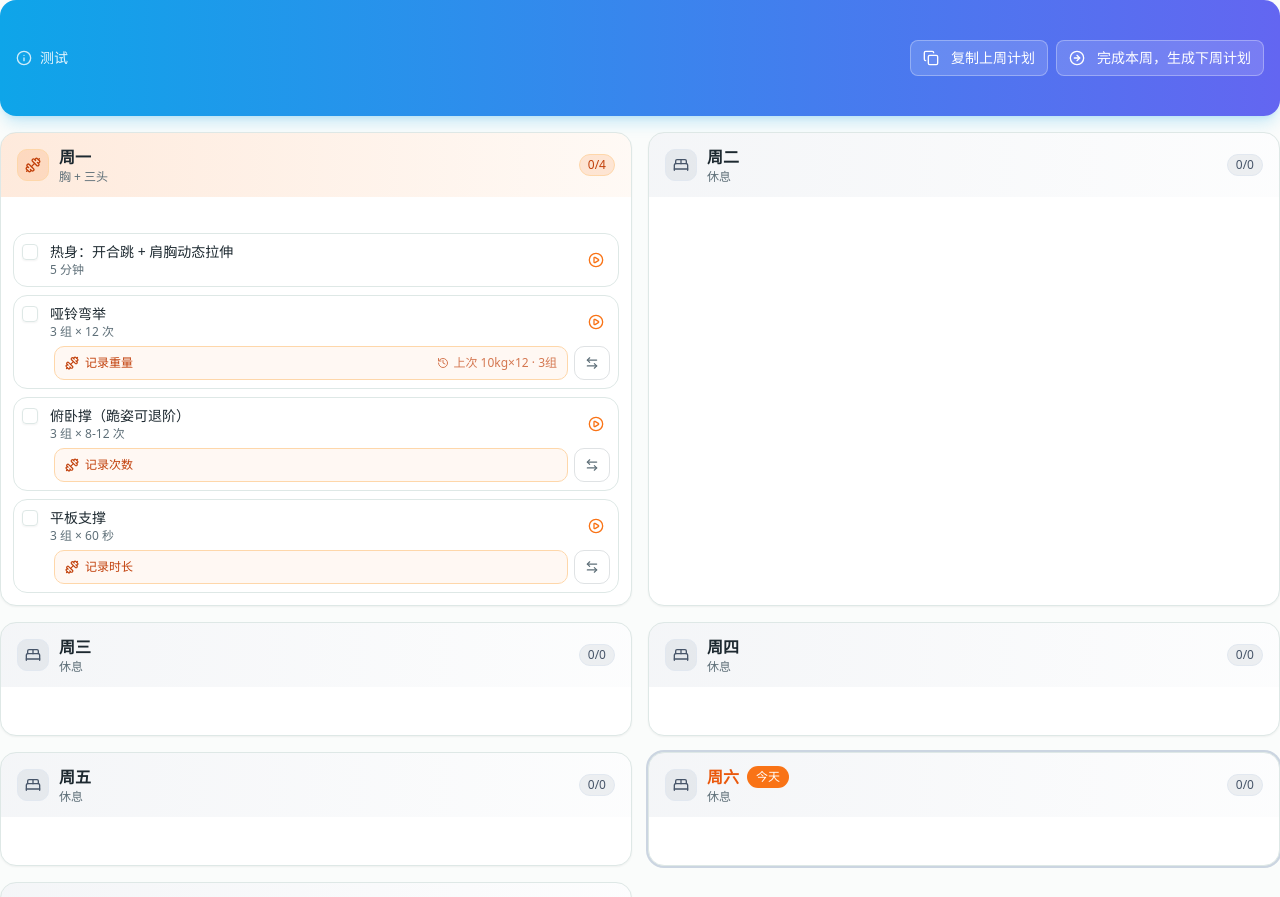
Test: 负重动作（哑铃弯举） › 有历史记录时入口显示"上次"，弹窗预填上次重量次数
Click the button "记录重量 上次 10kg×12 · 3组". click: (109, 362)
box: [54, 346, 568, 380]
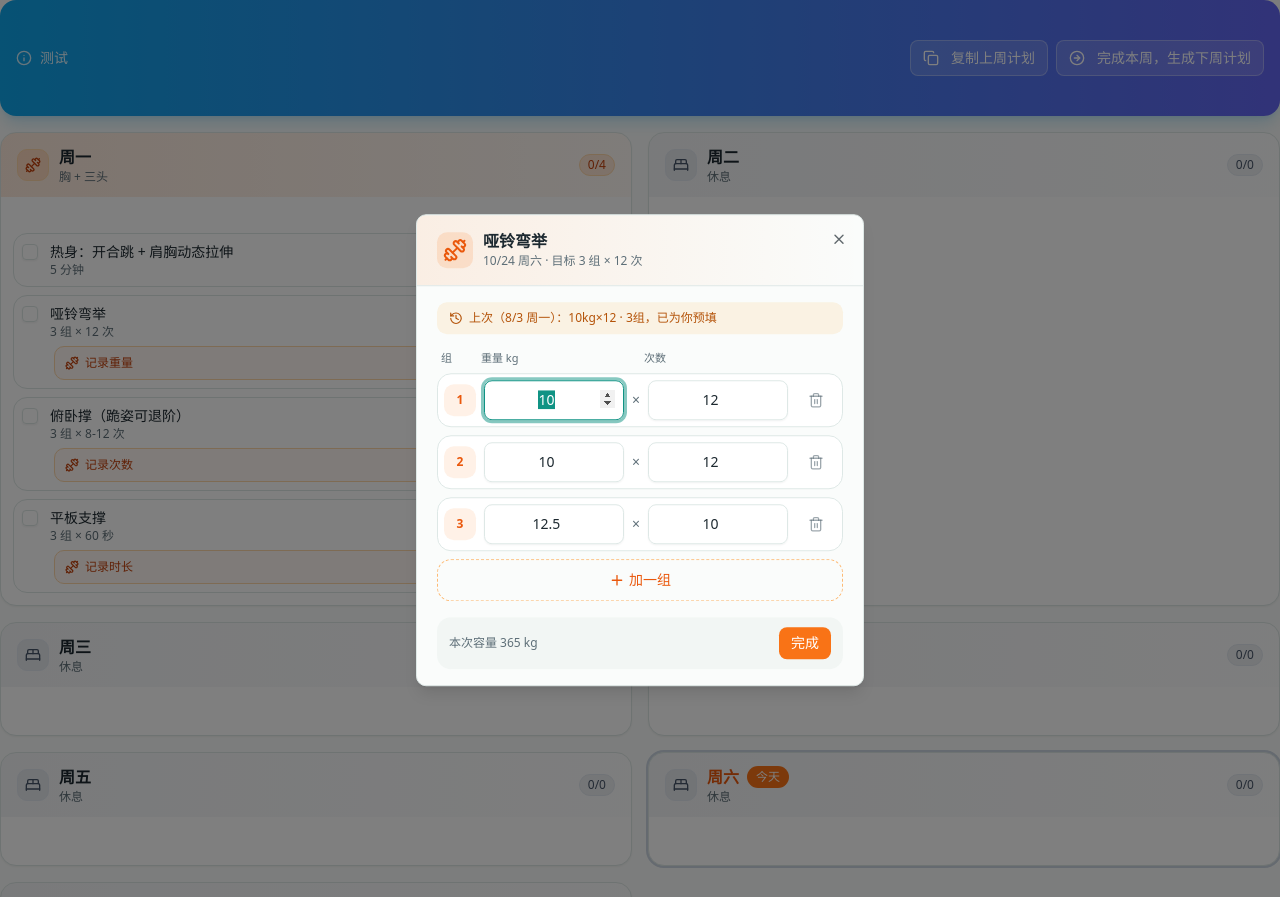
Expected: the text "上次（8/3 周一）：10kg×12 · 3组，已为你预填" is shown, [437, 302, 843, 334]
Expected: the number field named "第 1 组重量（kg）" holds "10", [484, 380, 624, 420]
Expected: the number field named "第 3 组重量（kg）" holds "12.5", [484, 504, 624, 544]
